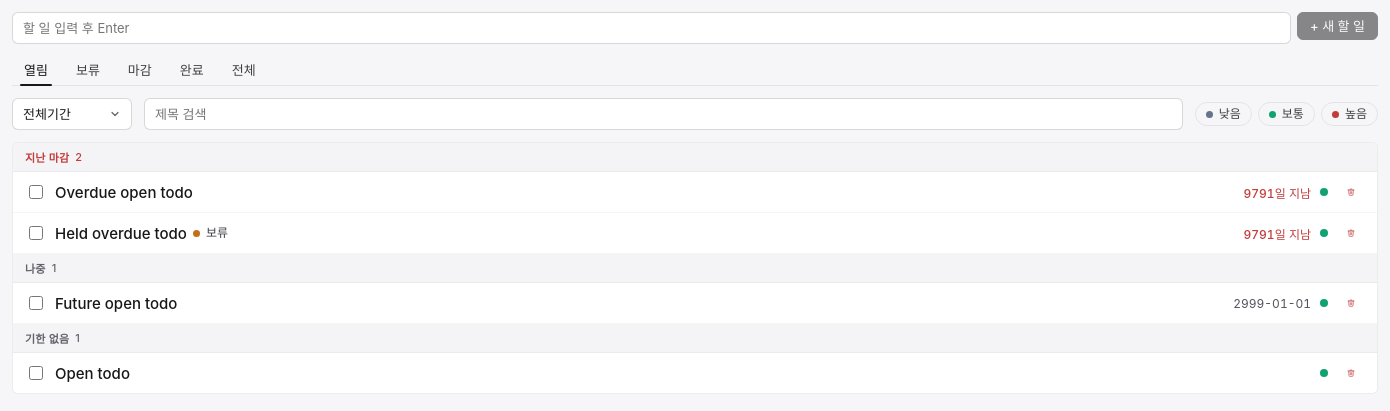
TodoPage filters › shows held todos in open with a badge and isolates them in the hold tab
The width and height of the screenshot is (1390, 411).
Check: the text "Held overdue todo" is shown, box [55,224,187,242]
Check: the text "Held overdue todo" shows "보류", box [206,225,228,240]
Step 1. Click the tab "보류" → (88,70), box [64,56,112,85]
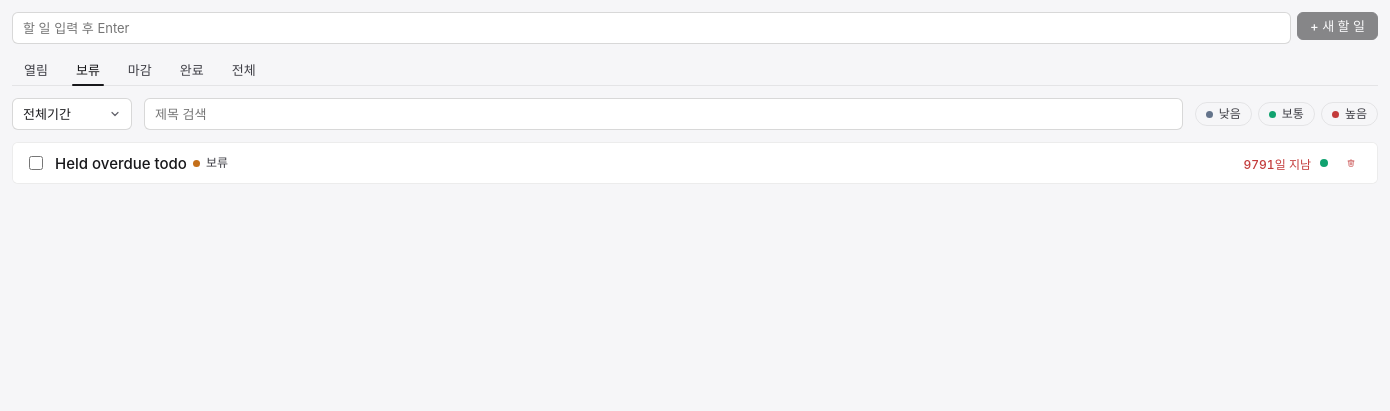
Check: the text "Held overdue todo" is shown, box [55,154,187,172]
Check: the text "open todo" is gone
